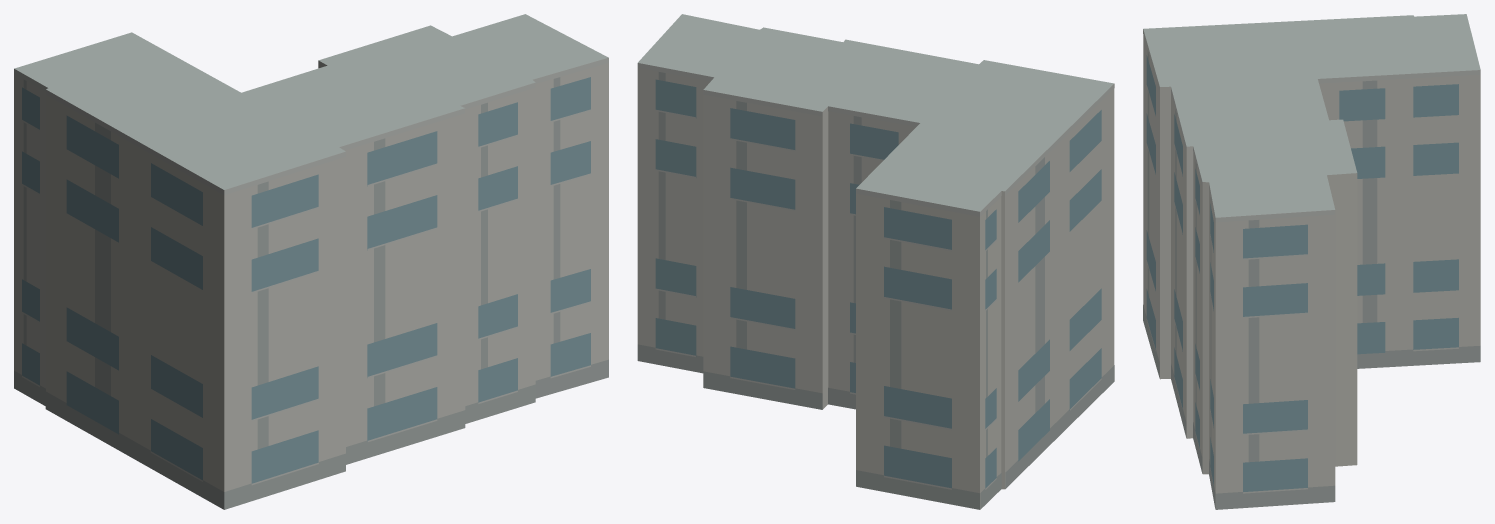
File: survey-upis-32497205.glb
3 views of the same model, side by side, from view 1: azimuth 30°, elevation 25°; view 2: azimuth 150°, elevation 25°; view 3: azimuth 270°, elevation 25° (orthographic). The views are drawn at different scales.
Visible parts, largest first — view 1: survey-upis-32497205.tmp; view 2: survey-upis-32497205.tmp; view 3: survey-upis-32497205.tmp.
Part boxes in pixels (x1,y1,x2,y2): survey-upis-32497205.tmp: (14,14,608,509); survey-upis-32497205.tmp: (637,14,1114,509); survey-upis-32497205.tmp: (1143,14,1480,509).
Size of the model in its own units: 21.93 by 14.65 by 15.36.
